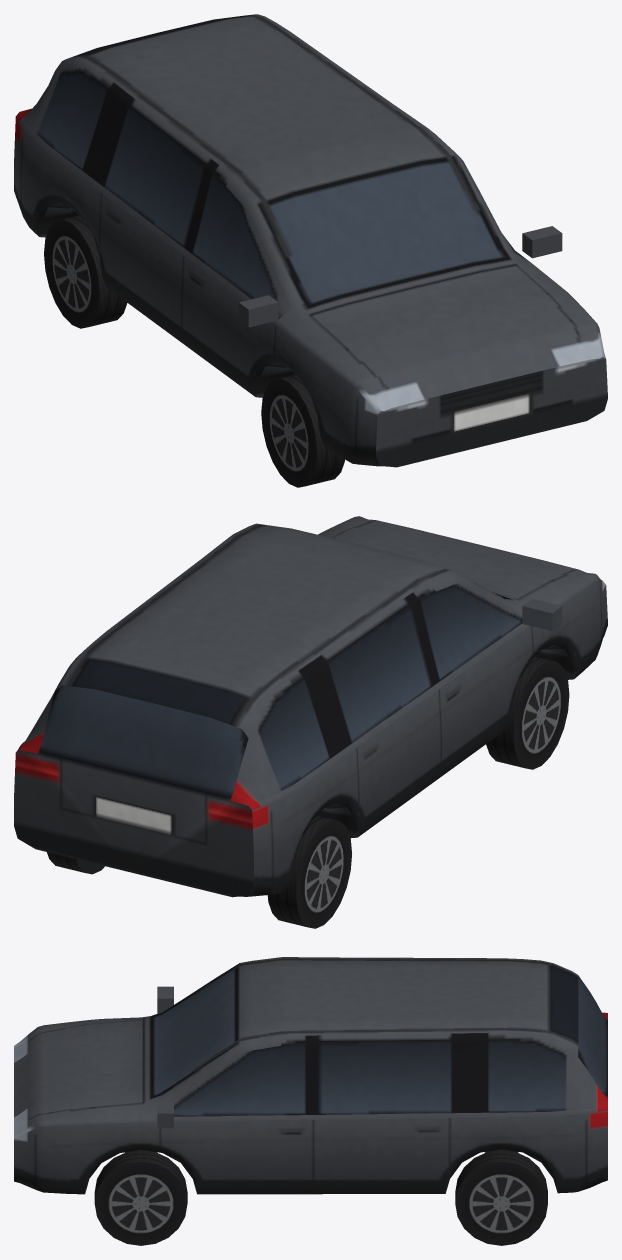
Rendered from SM_Morin_Auto_B_v2_GrigioScuro.fbx.
3 renders of one model, top to bottom at view 1: azimuth 30°, elevation 25°; view 2: azimuth 150°, elevation 25°; view 3: azimuth 270°, elevation 25°, orthographic. The views are drawn at different scales.
Visible parts, largest first — view 1: SM_Morin_Auto_B_v2_GrigioScuro; view 2: SM_Morin_Auto_B_v2_GrigioScuro; view 3: SM_Morin_Auto_B_v2_GrigioScuro.
Boxes of the visible parts, bbox=[...] form: SM_Morin_Auto_B_v2_GrigioScuro: bbox=[14, 14, 607, 487]; SM_Morin_Auto_B_v2_GrigioScuro: bbox=[14, 516, 607, 928]; SM_Morin_Auto_B_v2_GrigioScuro: bbox=[14, 957, 607, 1245].
Bounding box in the file's own units: 220 × 435 × 164.
1 material, 1 textured.
